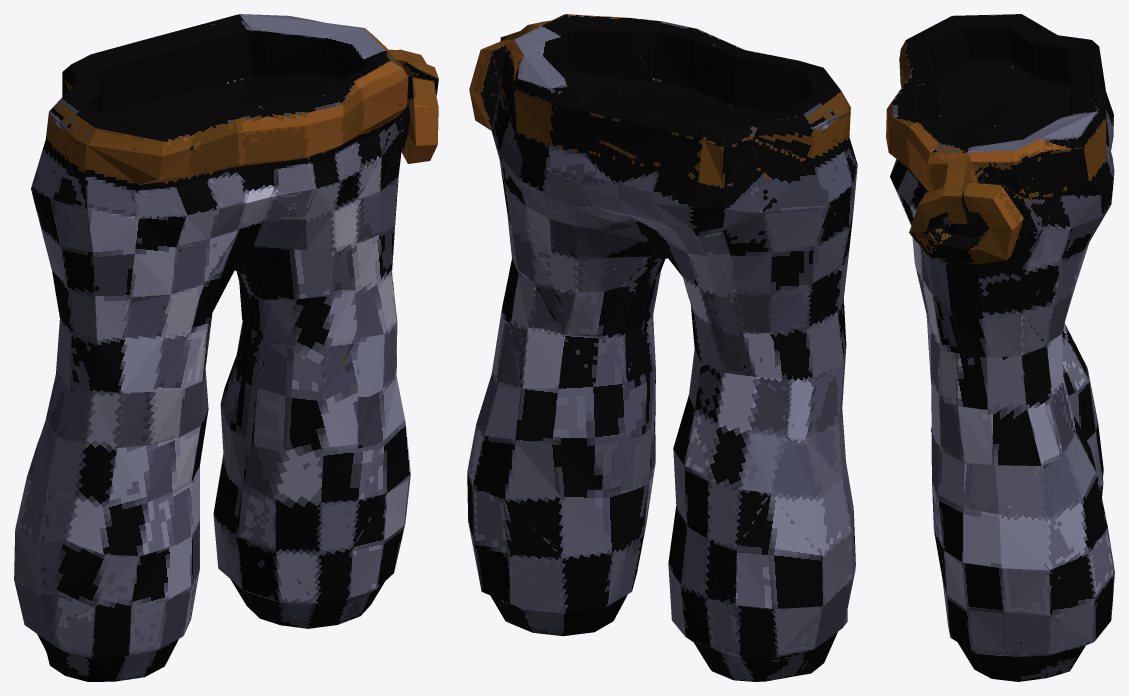
3 renders of one model, left to right at view 1: azimuth 30°, elevation 25°; view 2: azimuth 150°, elevation 25°; view 3: azimuth 270°, elevation 25°, orthographic. The views are drawn at different scales.
Visible parts, largest first — view 1: OBJ024; view 2: OBJ024; view 3: OBJ024.
Part boxes in pixels (box(x1,y1,x2,y2)): OBJ024: box(14, 14, 438, 681); OBJ024: box(467, 14, 857, 681); OBJ024: box(886, 14, 1114, 681).
Size of the model in its own units: 0.242 by 0.3438 by 0.1339.
1 material, 1 textured.
